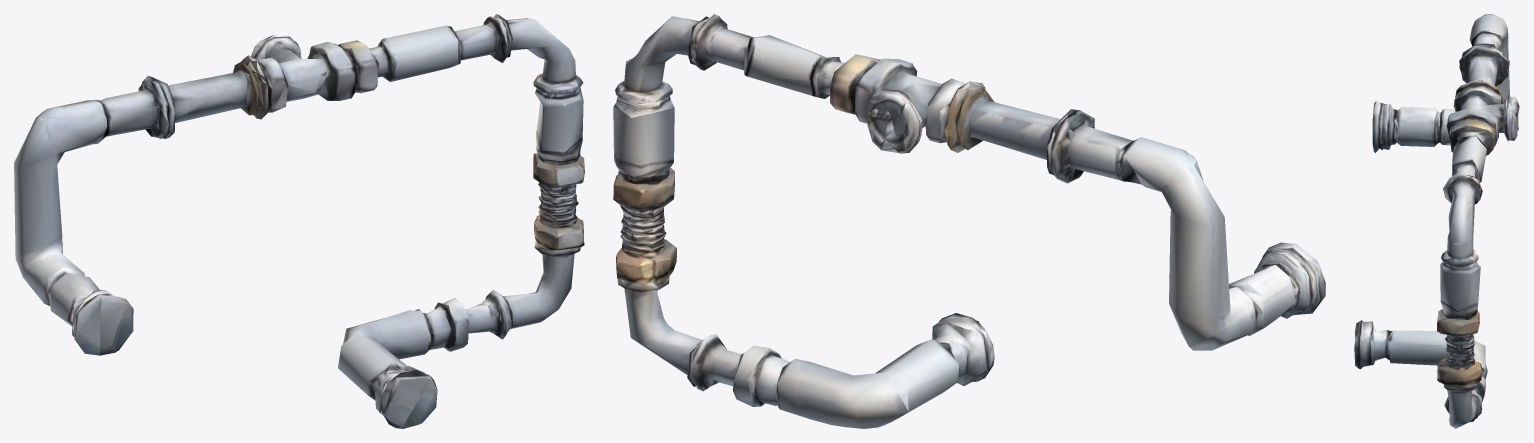
Rendered from hangar_pipe_bend_a.glb.
The picture shows the model from 3 angles, left to right: view 1: azimuth 30°, elevation 25°; view 2: azimuth 150°, elevation 25°; view 3: azimuth 270°, elevation 25°; orthographic projection. The views are drawn at different scales.
Visible parts, largest first — view 1: hangar_pipe_bend_a; view 2: hangar_pipe_bend_a; view 3: hangar_pipe_bend_a.
Part boxes in pixels (<box>): hangar_pipe_bend_a: <box>14,14,584,428</box>; hangar_pipe_bend_a: <box>613,14,1325,428</box>; hangar_pipe_bend_a: <box>1354,14,1519,428</box>.
Bounding box in the file's own units: 0.453 × 0.2568 × 0.1498.
1 material, 1 textured.
